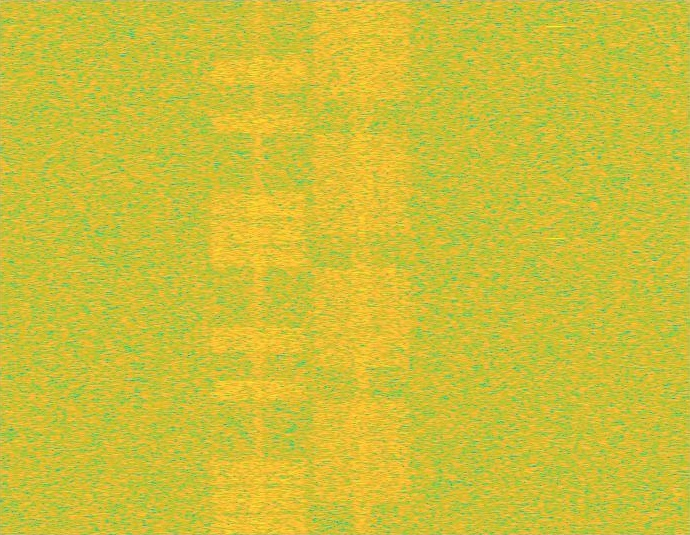5G: (311, 0, 414, 534)
DSSS: (351, 0, 374, 534), (252, 0, 266, 534)
LTE: (207, 0, 311, 534)
Radar: (550, 0, 564, 534)
